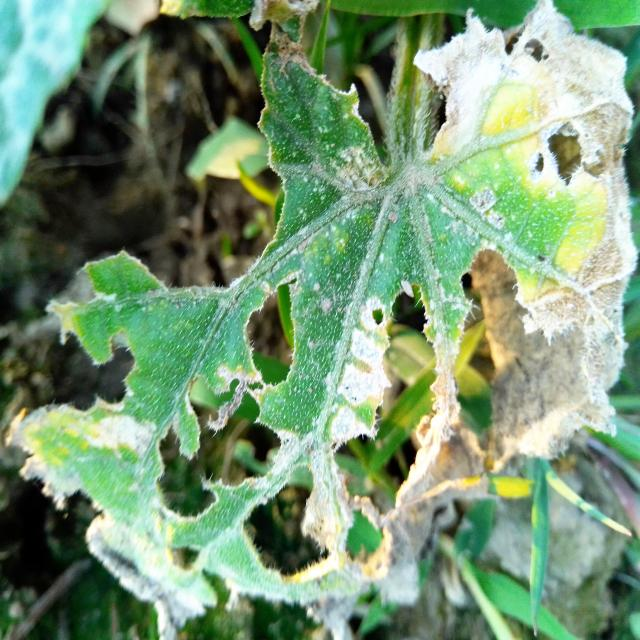Anthracnose: (151, 270, 303, 526), (328, 277, 439, 568), (239, 452, 337, 584), (527, 115, 611, 193), (523, 34, 552, 69)
